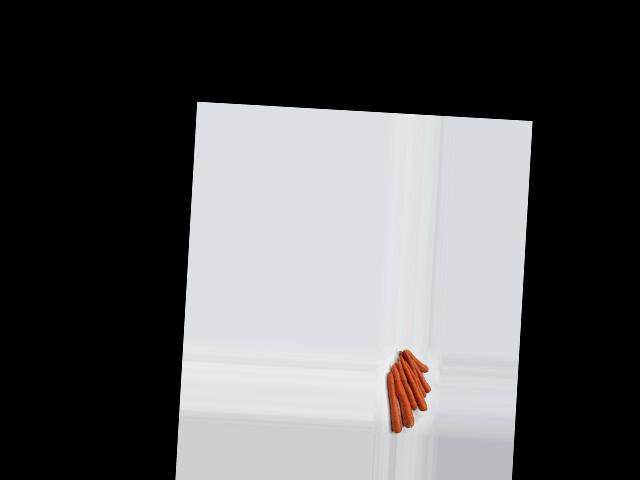carrot: (399, 347, 434, 371)
